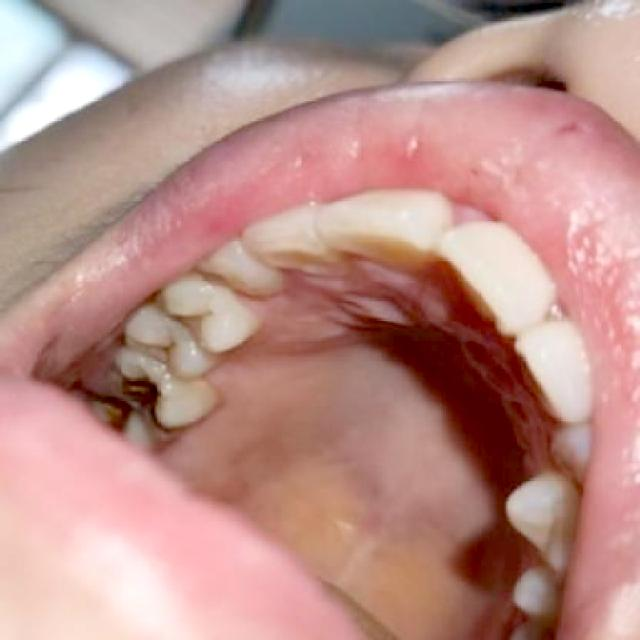Plaque: (169, 309, 216, 339), (135, 342, 177, 368)
